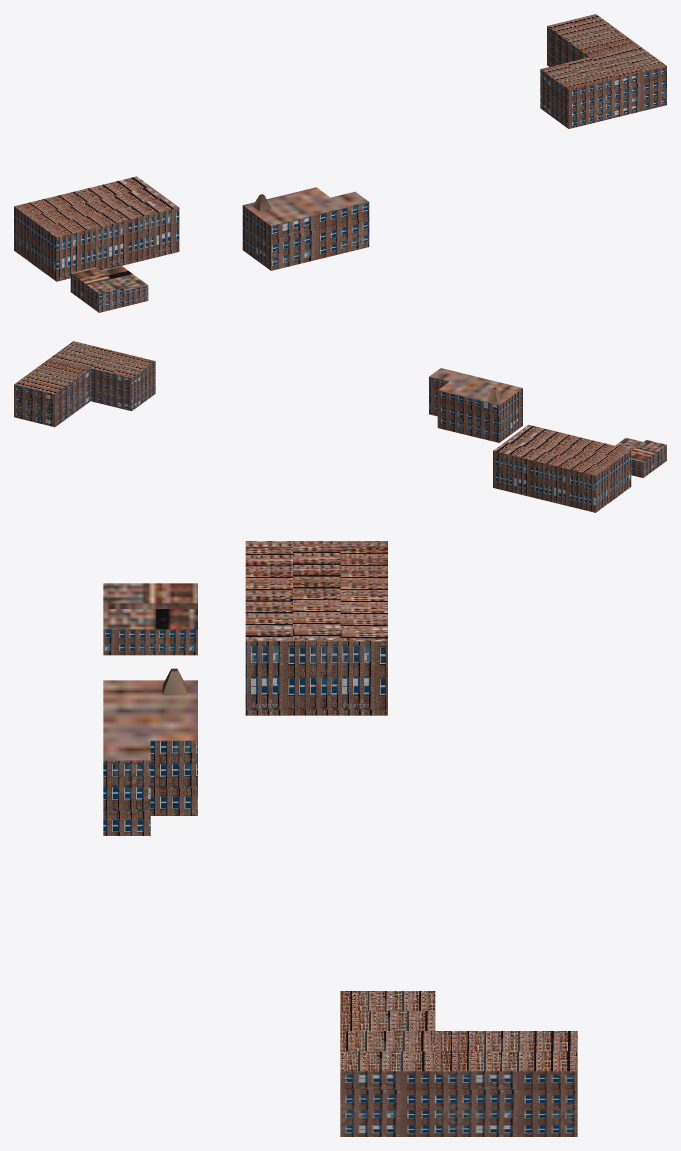
File: rojitos.obj
3 views of the same model, one above another, from view 1: azimuth 30°, elevation 25°; view 2: azimuth 150°, elevation 25°; view 3: azimuth 270°, elevation 25° (orthographic). The views are drawn at different scales.
Parts seen in each view (by area): view 1: rojitos_Cube.026; view 2: rojitos_Cube.026; view 3: rojitos_Cube.026.
Part boxes in pixels (bbox=[...]): rojitos_Cube.026: bbox=[14, 14, 666, 312]; rojitos_Cube.026: bbox=[14, 341, 666, 512]; rojitos_Cube.026: bbox=[103, 541, 577, 1136].
Bounding box in the file's own units: 6.5 × 0.5564 × 2.5.
